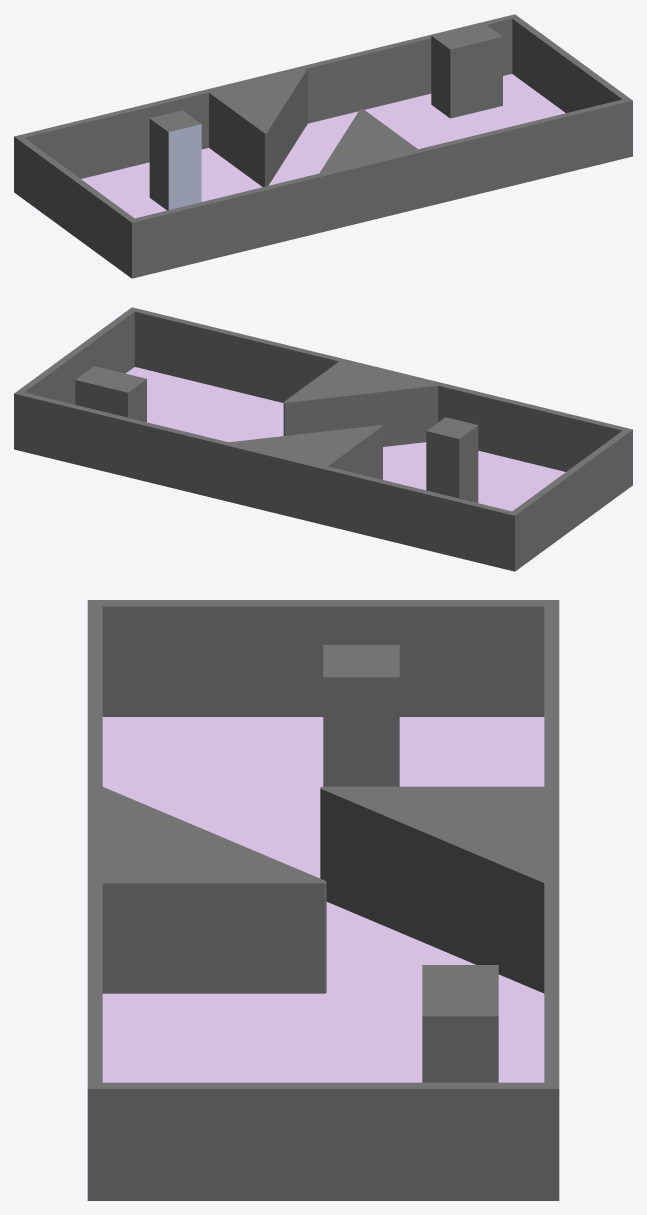
The model's file is real_env.DAE.
3 renders of one model, top to bottom at view 1: azimuth 30°, elevation 25°; view 2: azimuth 150°, elevation 25°; view 3: azimuth 270°, elevation 25°, orthographic. The views are drawn at different scales.
Visible parts, largest first — view 1: stitch_result_stitchFBXASC032all-Pivot; view 2: stitch_result_stitchFBXASC032all-Pivot; view 3: stitch_result_stitchFBXASC032all-Pivot.
Boxes of the visible parts, x1,y1,x2,y2 form: stitch_result_stitchFBXASC032all-Pivot: (14, 14, 632, 278); stitch_result_stitchFBXASC032all-Pivot: (14, 307, 632, 571); stitch_result_stitchFBXASC032all-Pivot: (87, 600, 559, 1200).
Bounding box in the file's own units: 7600 × 3100 × 1160.
